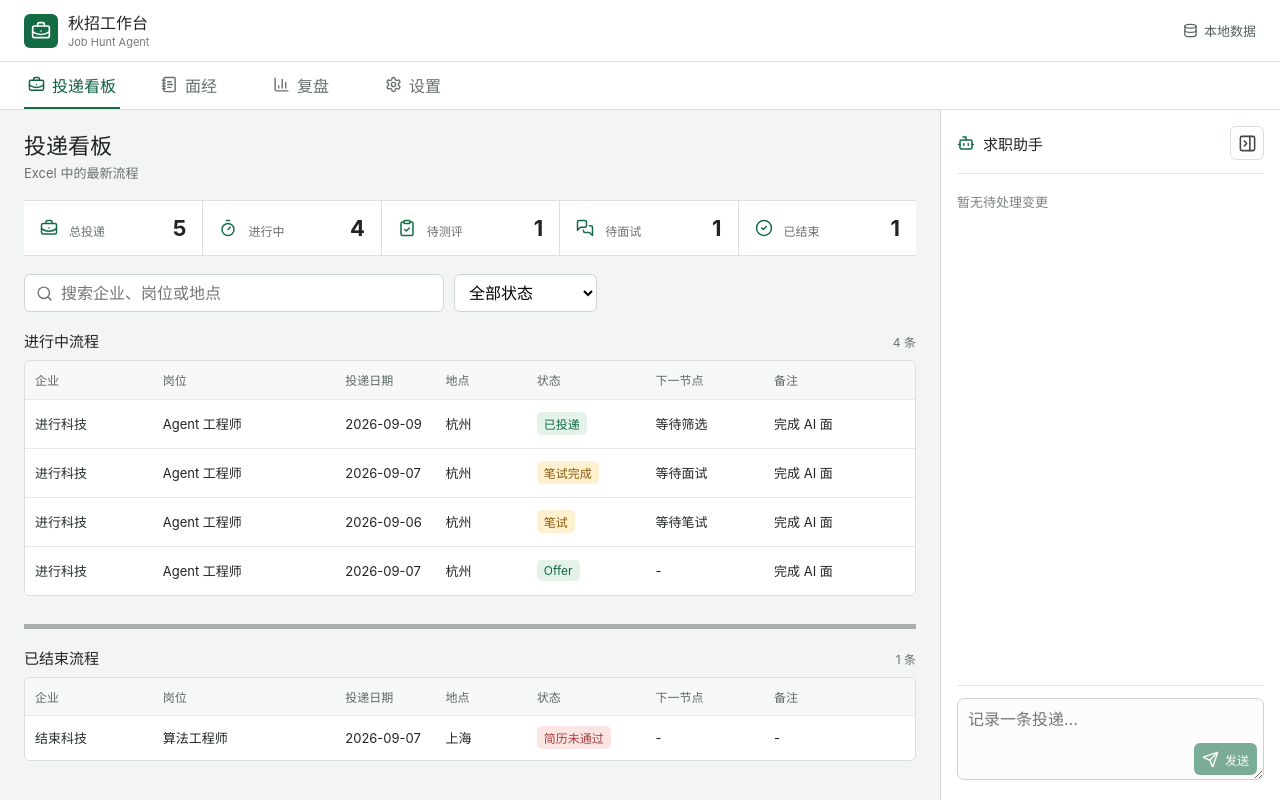
Scenario: AppShell › shows daily, natural-week, exclusive funnel, and todo review sections
Click the tab "复盘" at point(301, 86), box [258,62,344,109]
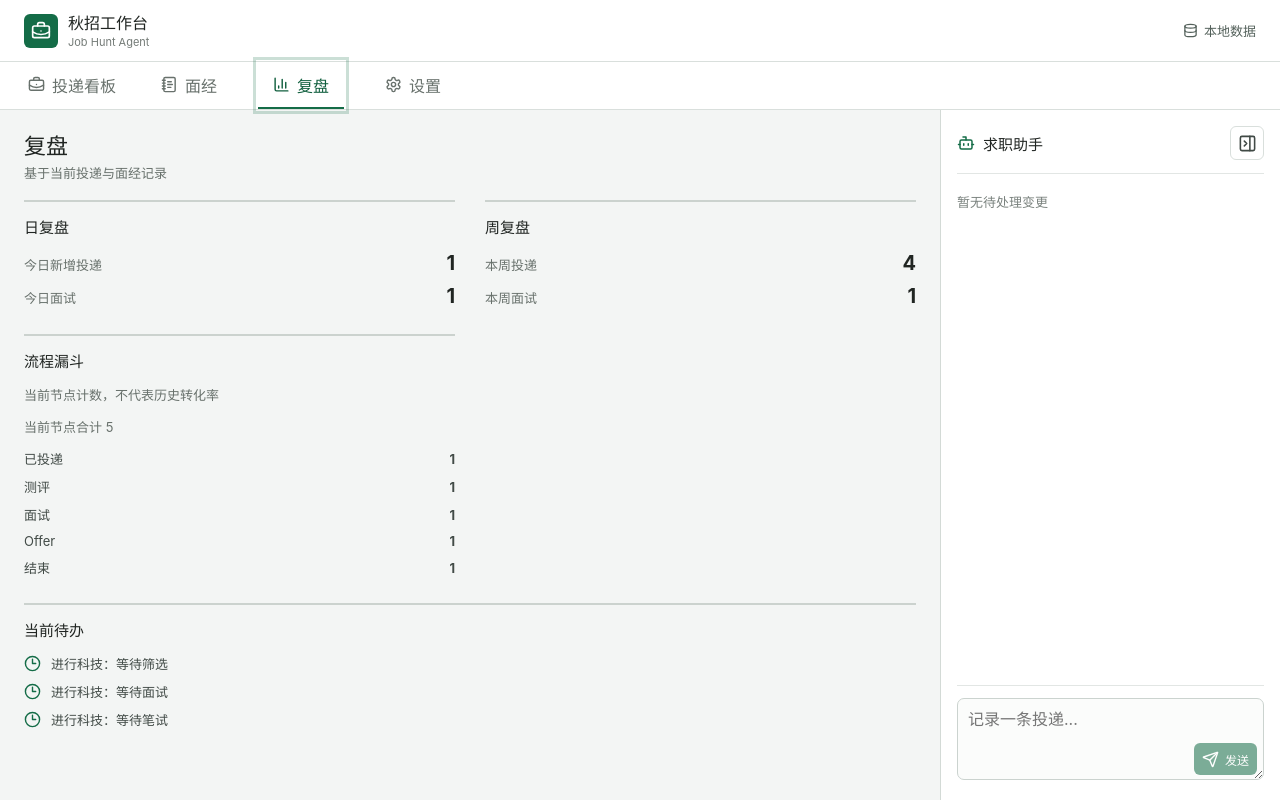
Expected: the element "流程漏斗" shows "当前节点合计 5", [24,334,455,577]
Expected: the element "当前待办" is shown, [24,603,916,729]
